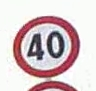limite 40: (12, 13, 80, 79)
